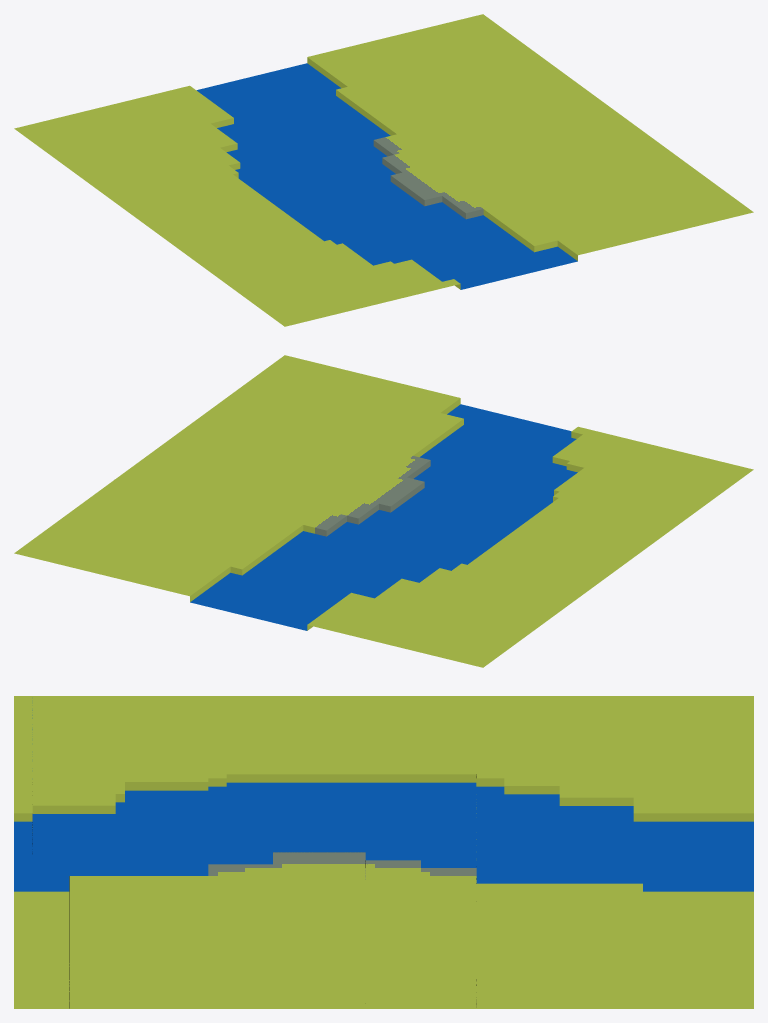
Rendered from MMMMR92(1).glb.
3 renders of one model, top to bottom at view 1: azimuth 30°, elevation 25°; view 2: azimuth 150°, elevation 25°; view 3: azimuth 270°, elevation 25°, orthographic. The views are drawn at different scales.
Visible parts, largest first — view 1: model_0.040; view 2: model_0.040; view 3: model_0.040.
Boxes of the visible parts, bbox=[...] form: model_0.040: bbox=[14, 14, 753, 326]; model_0.040: bbox=[14, 355, 753, 667]; model_0.040: bbox=[14, 696, 753, 1008].
Size of the model in its own units: 80 by 1 by 80.
Materials: 1 (1 with a texture image).
